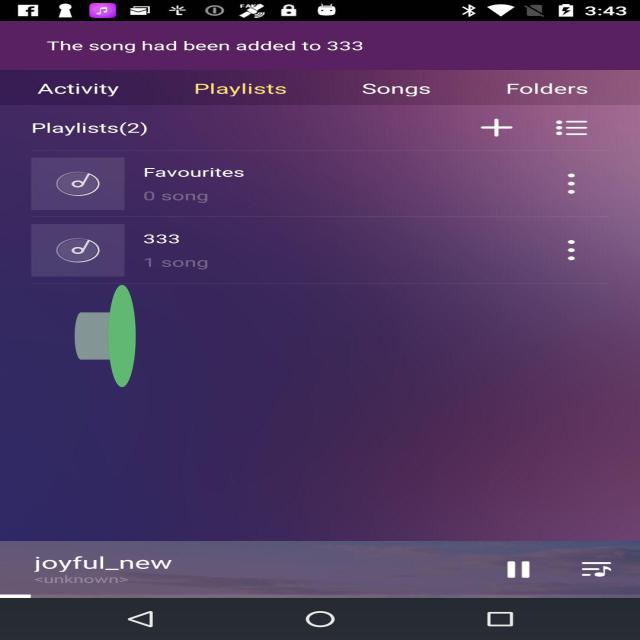social proof: (74, 222, 136, 450)
